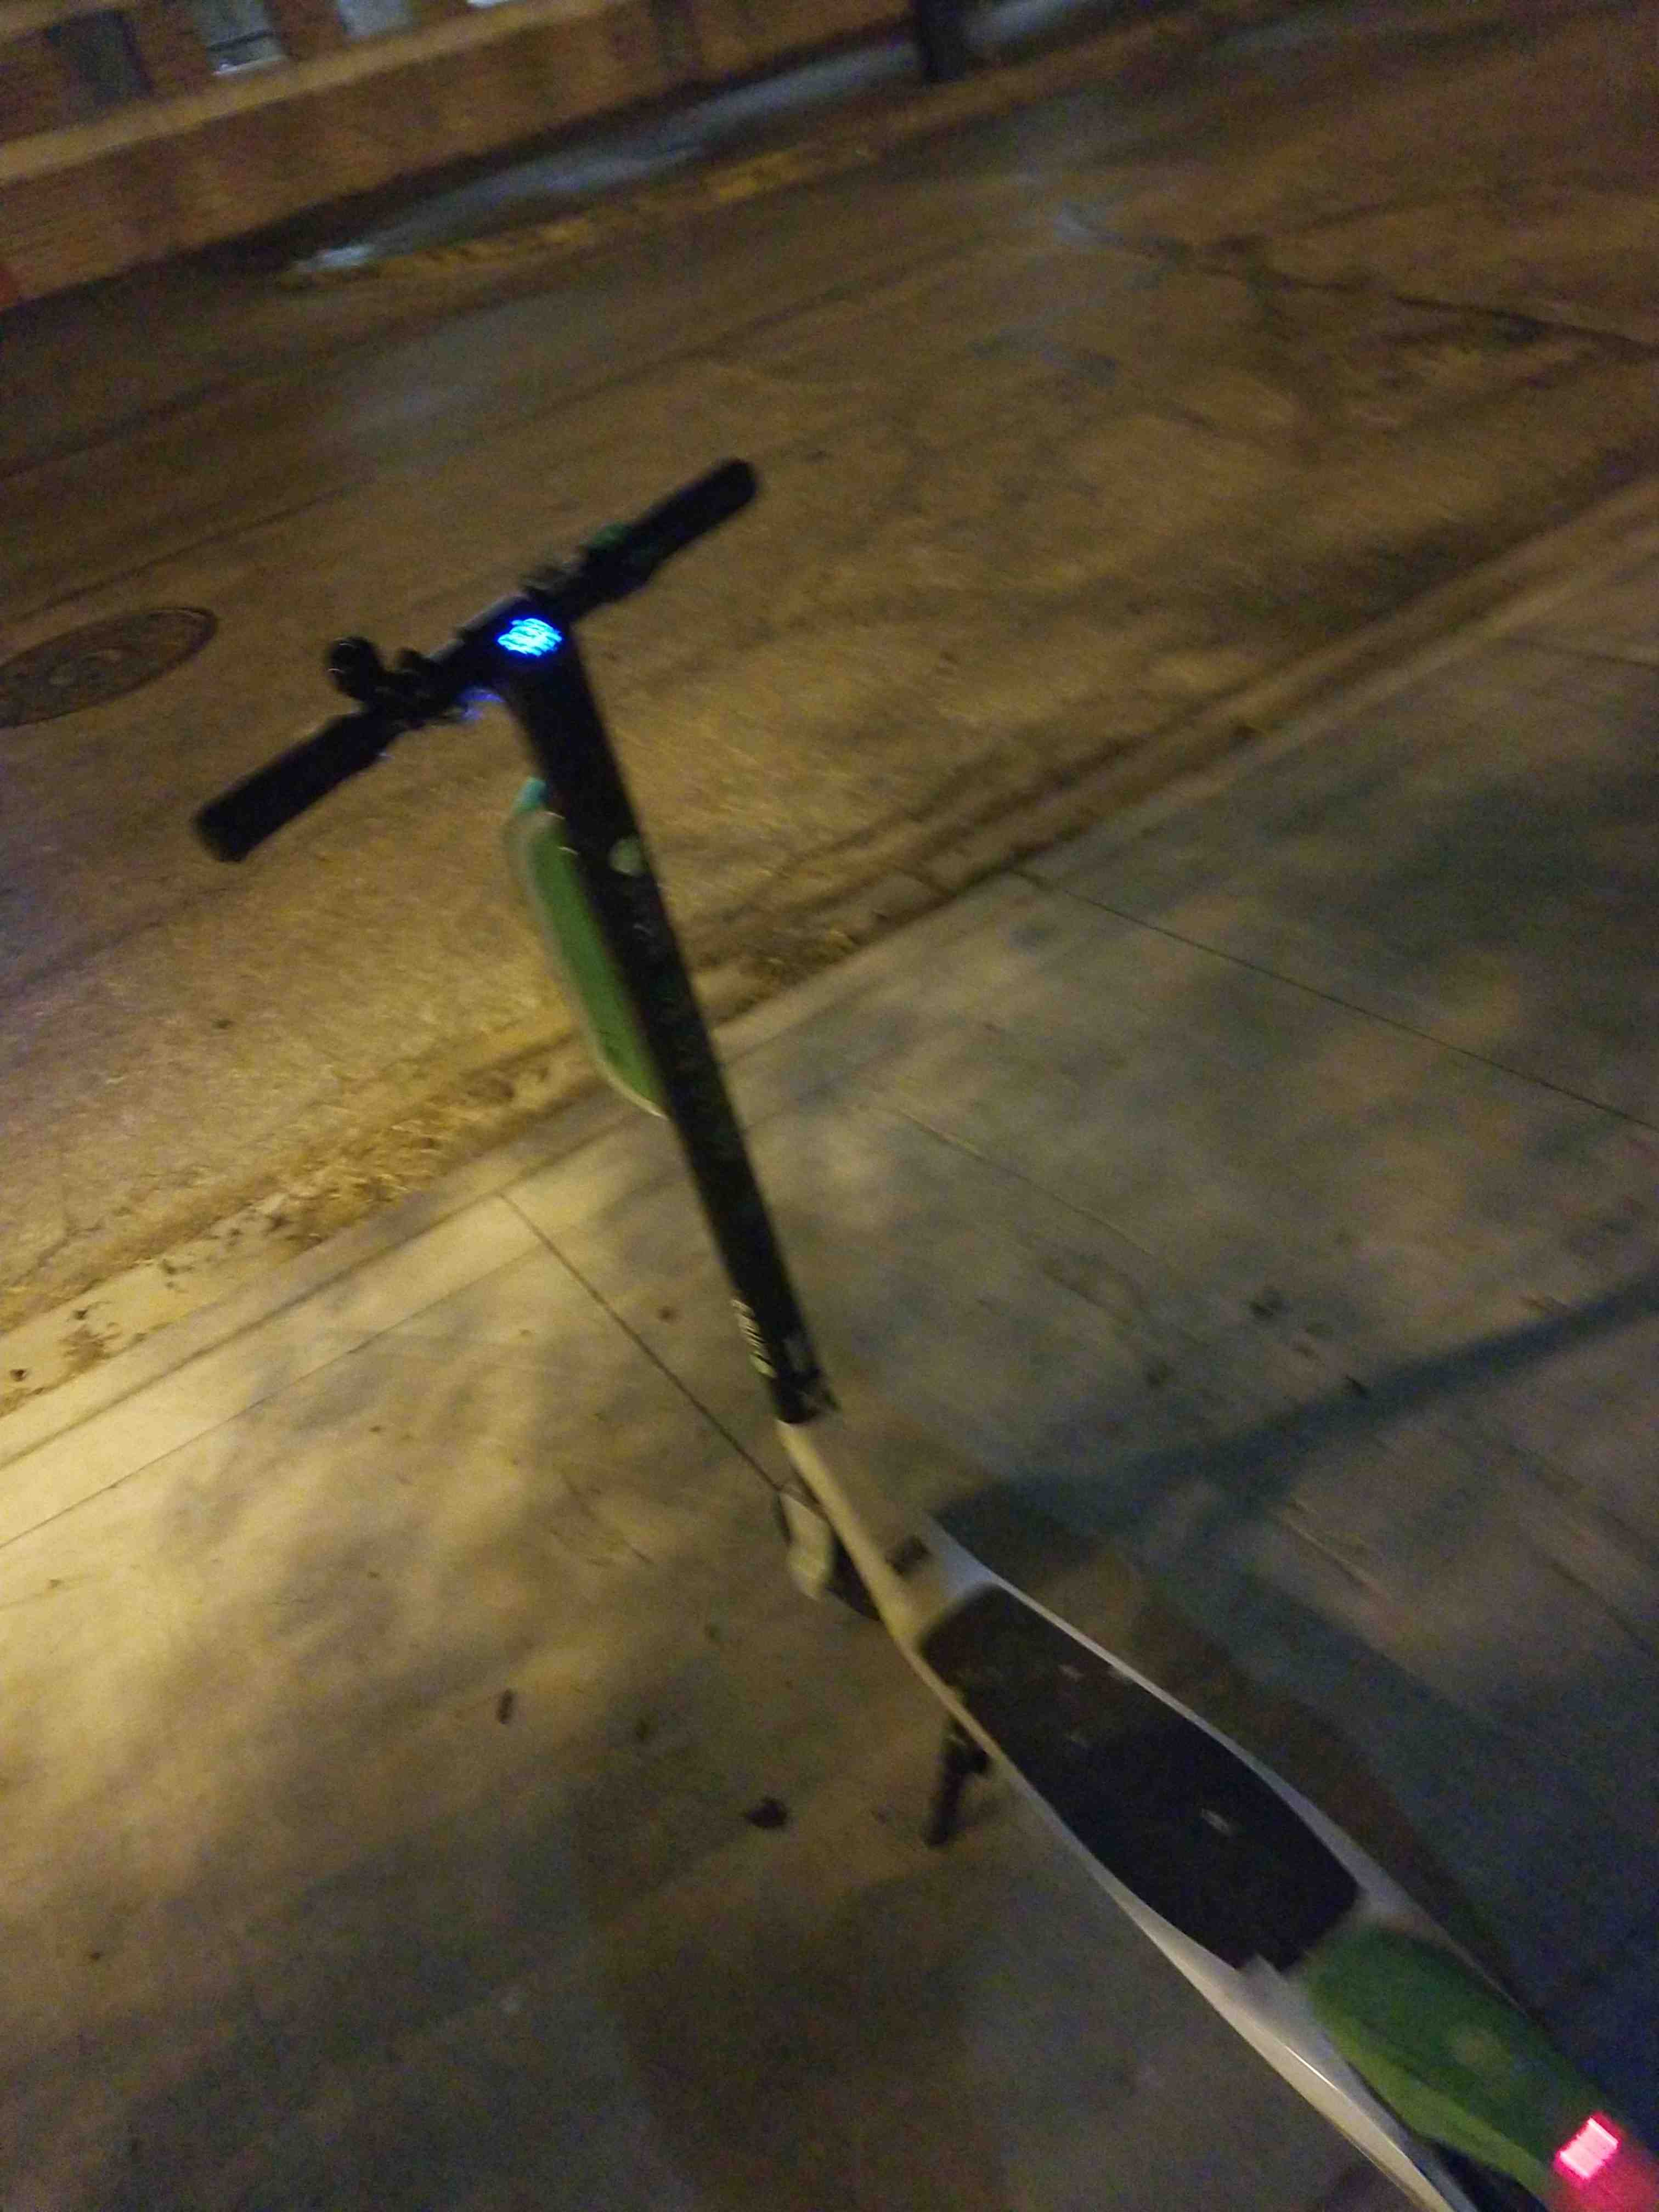scooter: (153, 437, 1659, 2200)
